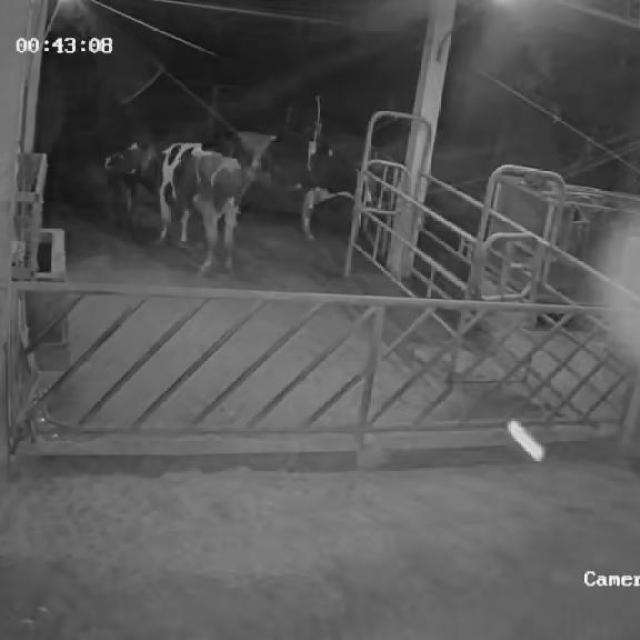standing: (233, 126, 374, 248)
